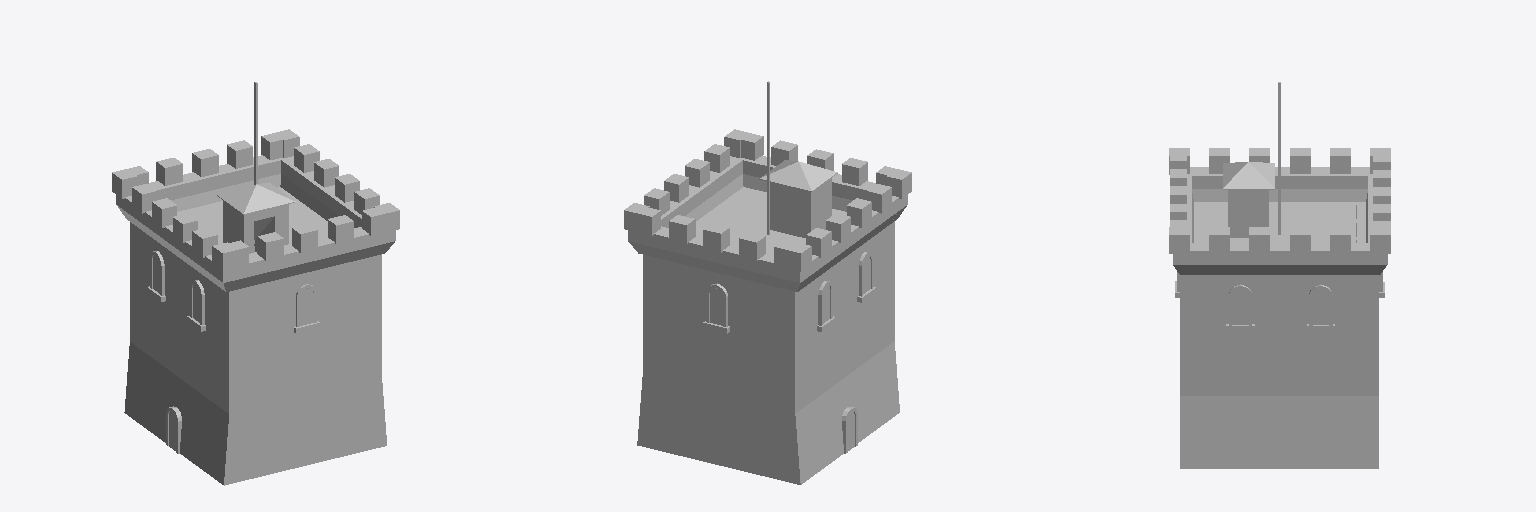
Rendered from SquareTower1.obj.
The picture shows the model from 3 angles: view 1: azimuth 30°, elevation 25°; view 2: azimuth 150°, elevation 25°; view 3: azimuth 270°, elevation 25°; orthographic projection.
Parts seen in each view (by area): view 1: limestone, floor, roof; view 2: limestone, floor, roof; view 3: limestone, floor, roof.
Part boxes in pixels (x1,y1,x2,y2): limestone: (112, 129, 399, 485); floor: (153, 191, 327, 450); roof: (217, 82, 295, 214); limestone: (624, 129, 911, 484); floor: (696, 190, 870, 450); roof: (759, 81, 837, 234); limestone: (1169, 148, 1390, 468); floor: (1202, 203, 1356, 324); roof: (1223, 82, 1280, 234).
Bounding box in the file's own units: 78.55 × 147 × 84.84.